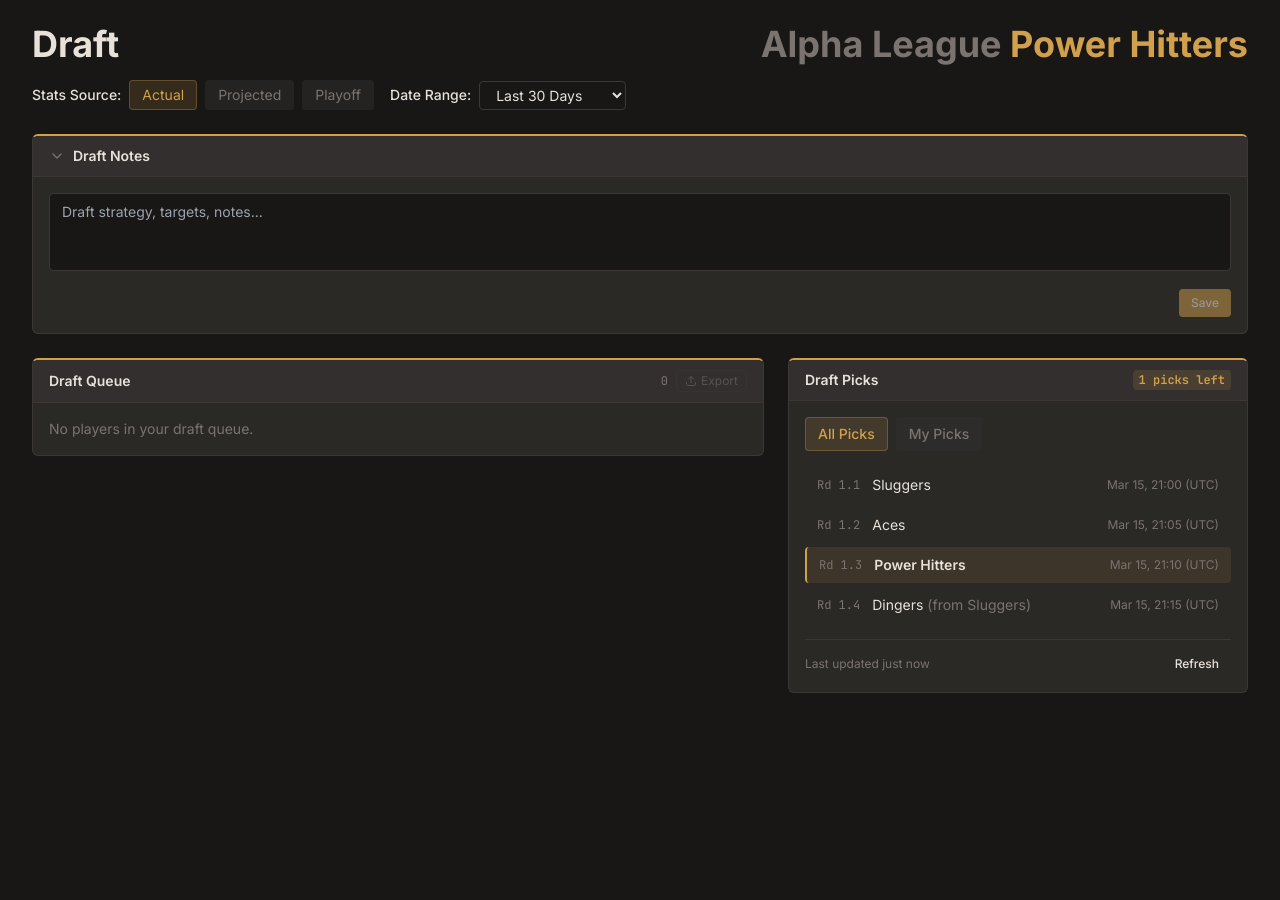
Test: DraftPage › Stats Controls › should hide date range dropdown when Projected is selected
This screenshot has width=1280, height=900.
Click the button "Projected" at (250, 95), box [205,80,294,110]
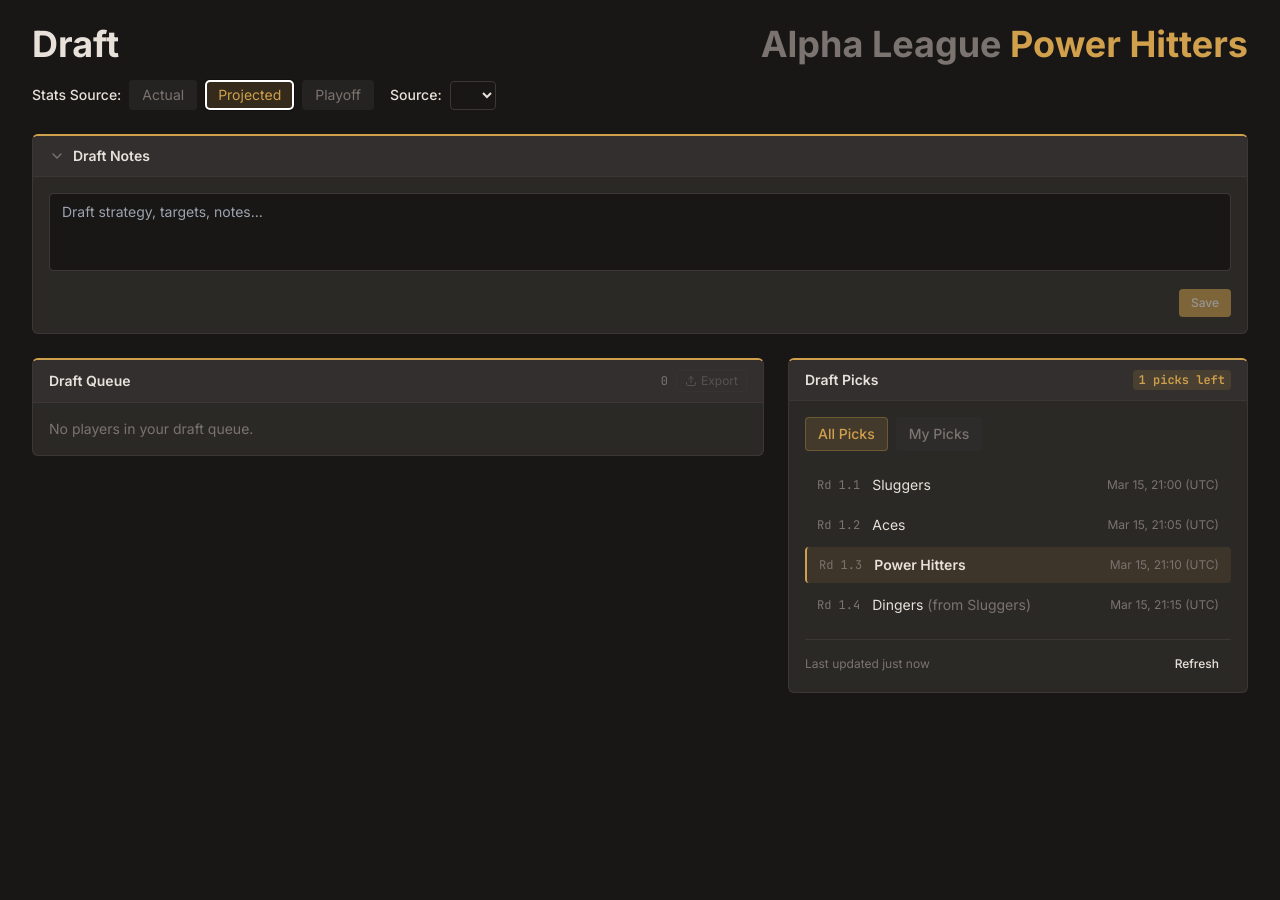
Expected: the text "Date Range:" is gone
